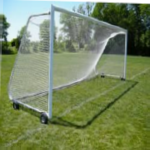goals: (7, 2, 129, 119)
